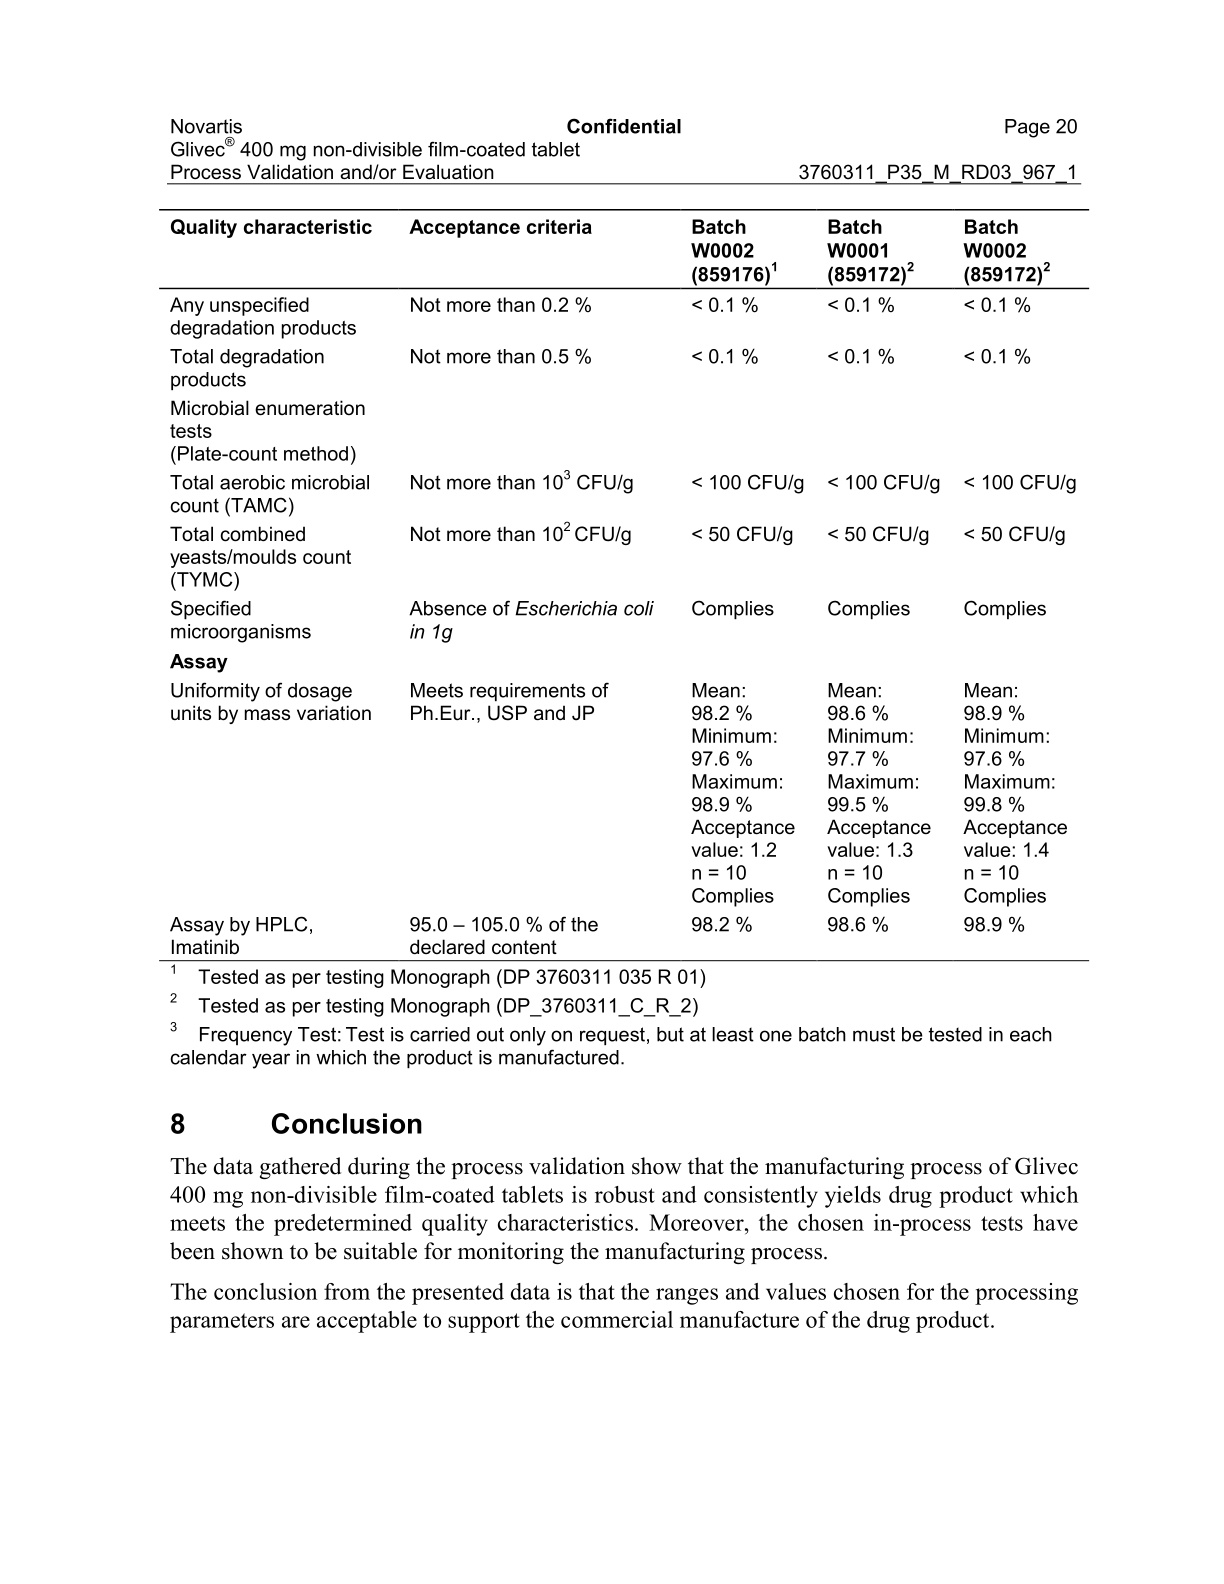partial_lined: (158, 208, 1092, 960)
